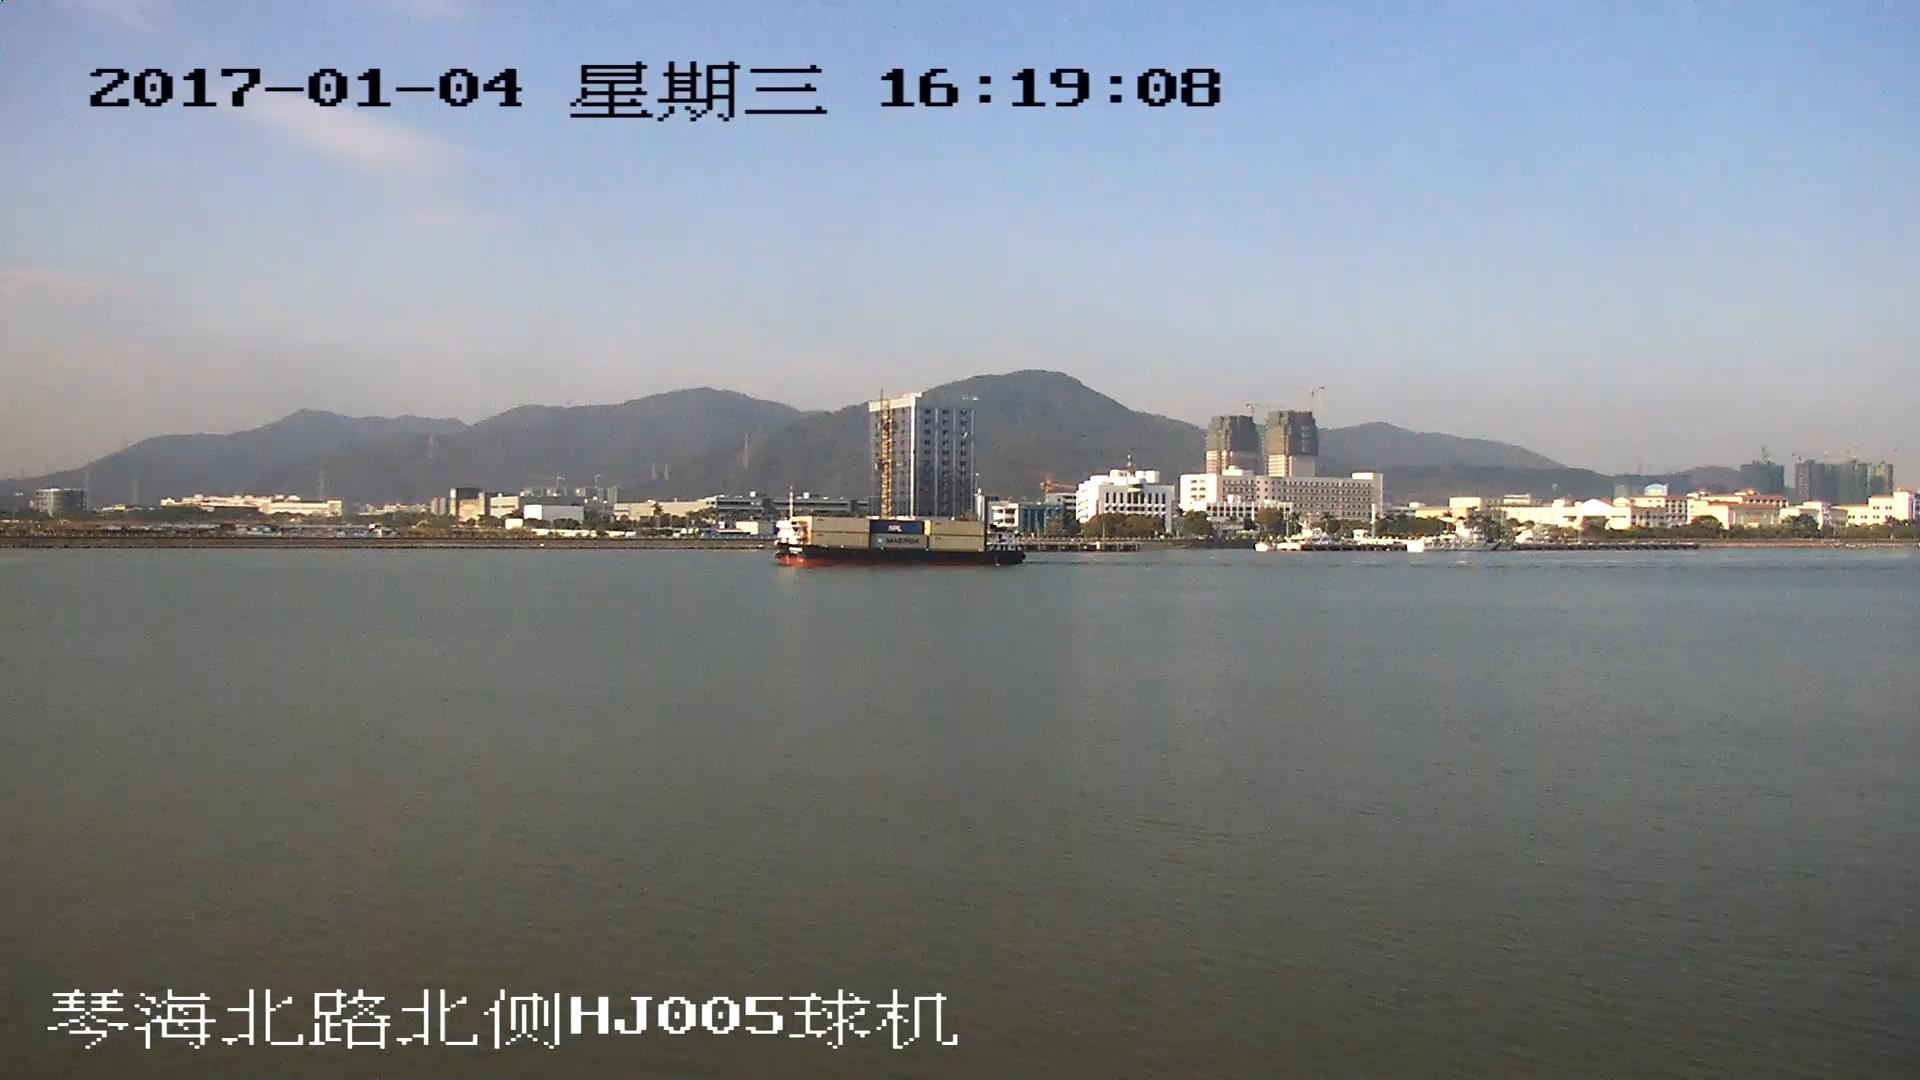Ship: (771, 516, 1023, 568)
